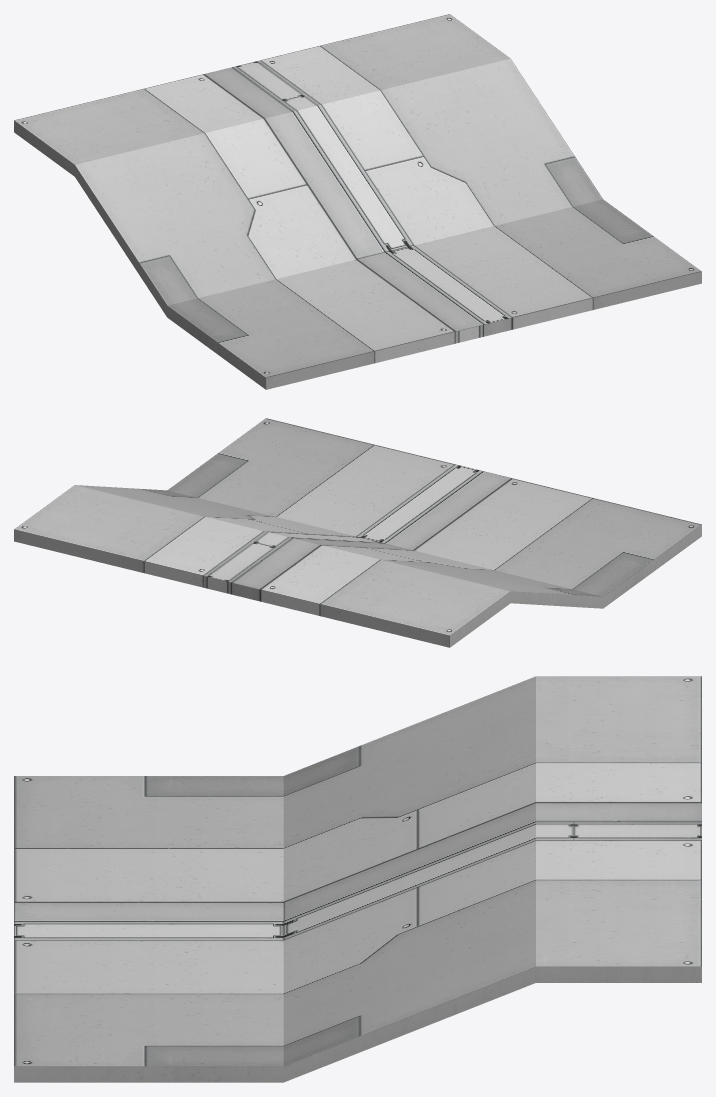
The model's file is Ext_Roof_01.FBX.
3 renders of one model, top to bottom at view 1: azimuth 30°, elevation 25°; view 2: azimuth 150°, elevation 25°; view 3: azimuth 270°, elevation 25°, orthographic. The views are drawn at different scales.
Parts seen in each view (by area): view 1: Ext_Roof_01; view 2: Ext_Roof_01; view 3: Ext_Roof_01.
Part boxes in pixels (x1,y1,x2,y2): Ext_Roof_01: (14,14,701,389); Ext_Roof_01: (14,418,701,647); Ext_Roof_01: (14,676,701,1082).
Size of the model in its own units: 560 by 104 by 561.
